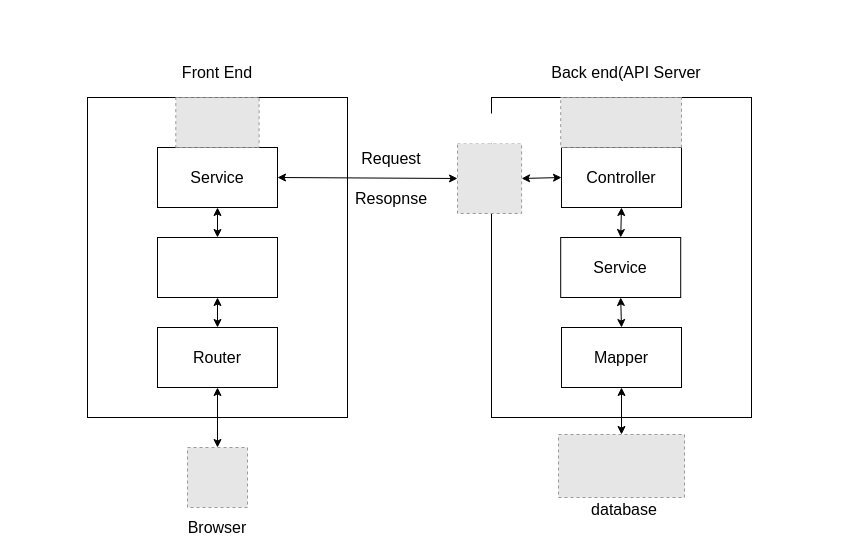
Some shapes in this 844 by 559 pixel diagram are drawn without their labels. Grey dashed boxes stand in for pictures. The shapes that lost their labels are listed below. From the top down, each one's box as (x1, y1, x2, y2) in pixels, then its label:
(443, 113, 543, 143): Proxy Server
(156, 236, 278, 298): Components
